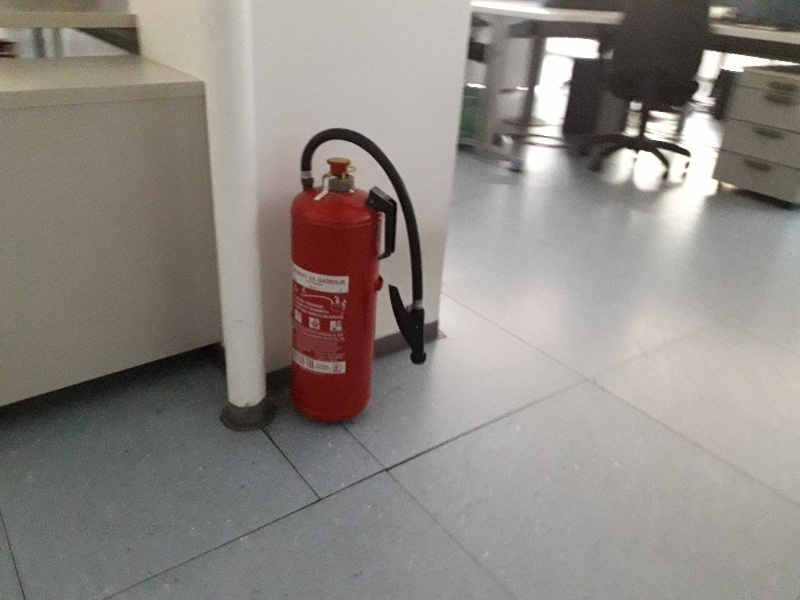vataparat: (292, 128, 427, 422)
